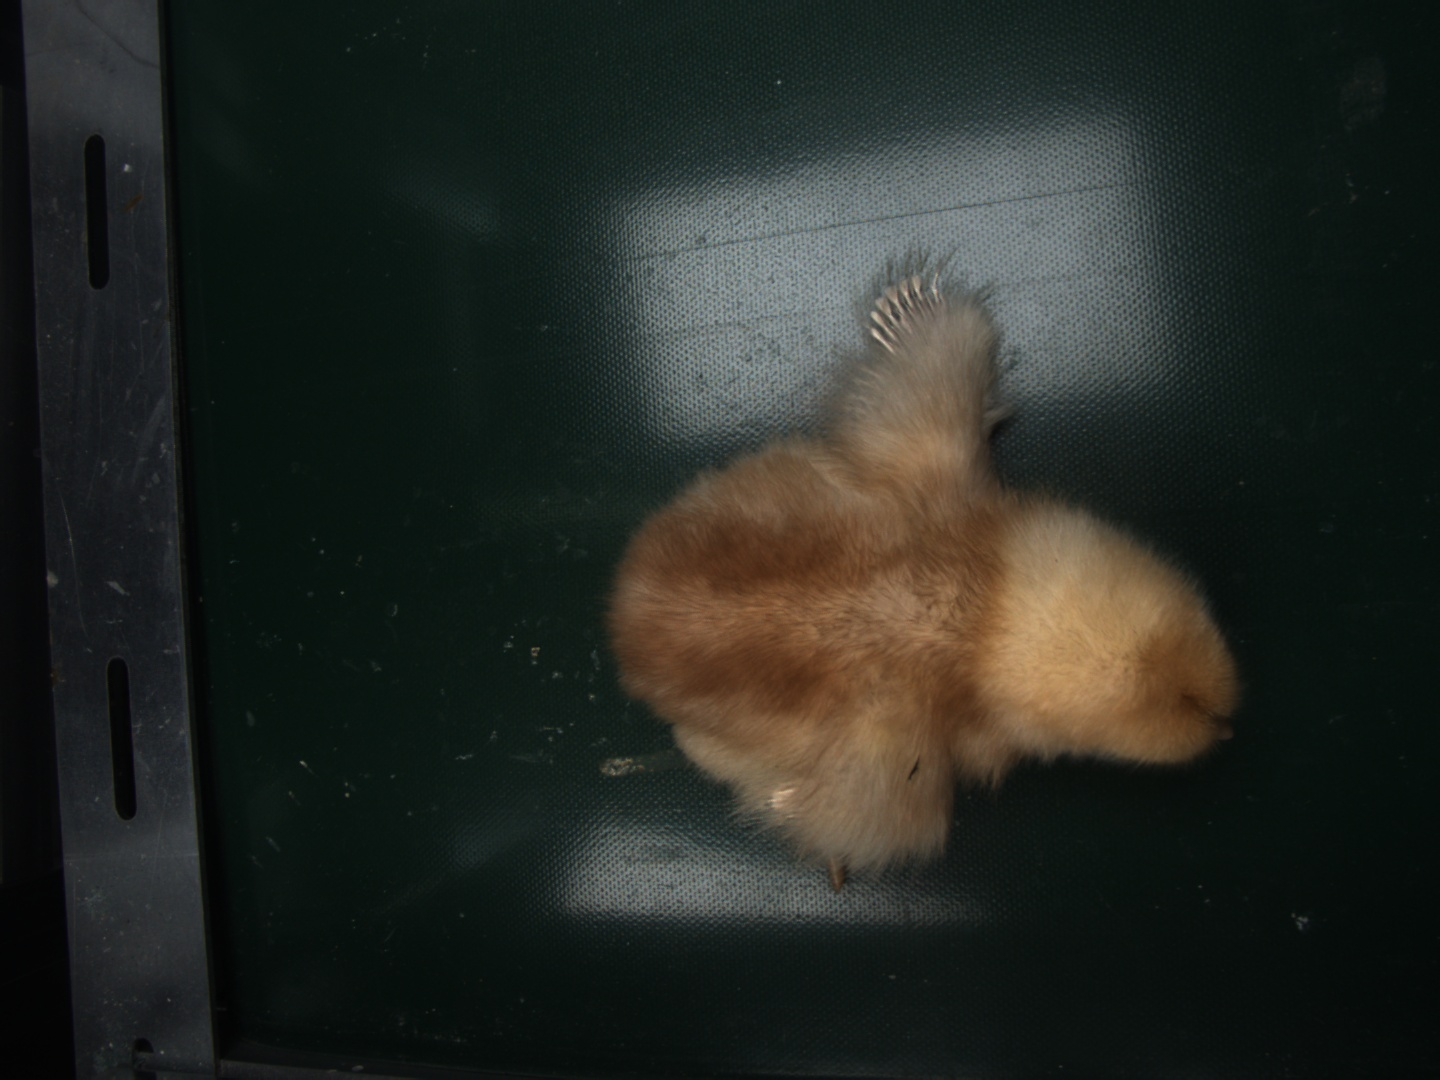female: (870, 273, 948, 358)
